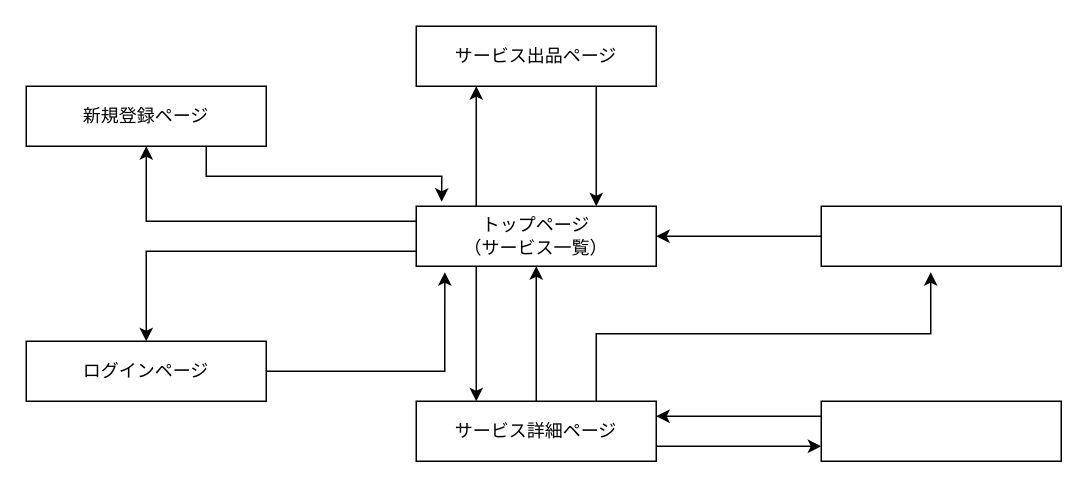
This 1088x488 diagram has some shape labels left out. Each missing label, with the centre of its shape:
"サービス編集ページ" goes at pixel 940 430.
"購入ページ" goes at pixel 940 235.
